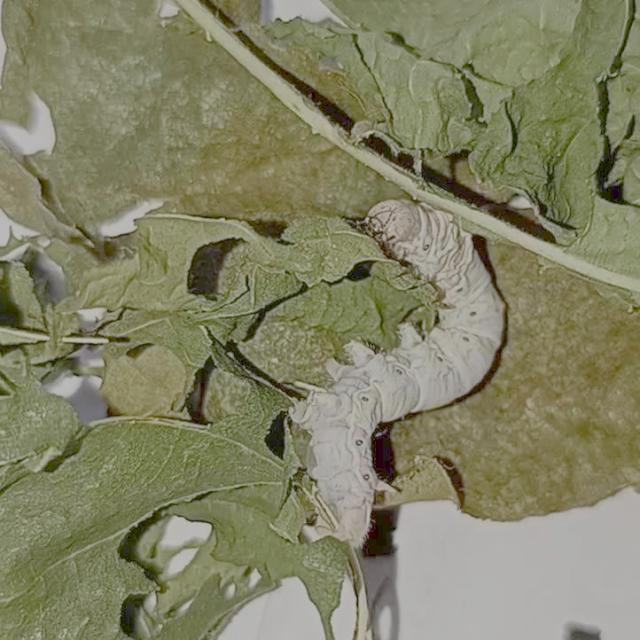Healthy: (286, 183, 524, 554)
